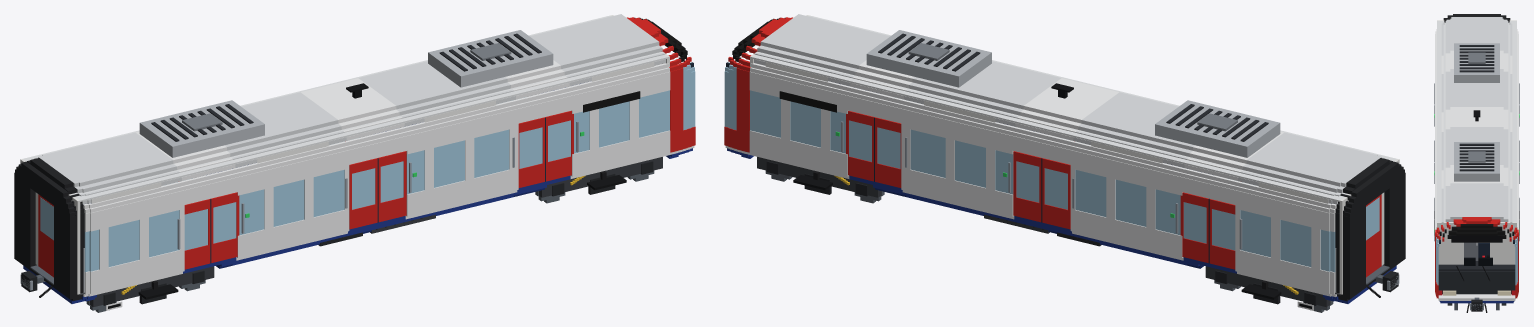
Rendered from sstock_front.obj.
The picture shows the model from 3 angles, left to right: view 1: azimuth 30°, elevation 25°; view 2: azimuth 150°, elevation 25°; view 3: azimuth 270°, elevation 25°; orthographic projection. The views are drawn at different scales.
Visible parts, largest first — view 1: SHELL, SHELL_roof, SHELL_ceiling, SHELL_diaphragm, EXTERNAL_DOOR_9_CG_DR2_TOGGLE_TL_-0.74_X, EXTERNAL_DOOR_10_CG_DR2_TOGGLE_TL_0.74_X, EXTERNAL_DOOR_4_CG_DR1_TOGGLE_TL_0.74_X, BOGEY_REAR, BOGEY_FRONT, EXTERNAL_DOOR_15_CG_DR3_TOGGLE_TL_-0.74_X, EXTERNAL_DOOR_3_CG_DR1_TOGGLE_TL_-0.74_X, EXTERNAL_DOOR_16_CG_DR3_TOGGLE_TL_0.74_X (+6 smaller); view 2: SHELL, SHELL_roof, SHELL_ceiling, SHELL_diaphragm, EXTERNAL_DOOR_12_CG_DL2_TOGGLE_TL_-0.74_X, EXTERNAL_DOOR_13_CG_DL2_TOGGLE_TL_0.74_X, EXTERNAL_DOOR_7_CG_DL1_TOGGLE_TL_0.74_X, BOGEY_REAR, BOGEY_FRONT, EXTERNAL_DOOR_6_CG_DL1_TOGGLE_TL_-0.74_X, EXTERNAL_DOOR_18_CG_DL3_TOGGLE_TL_-0.74_X, EXTERNAL_DOOR_19_CG_DL3_TOGGLE_TL_0.74_X (+6 smaller); view 3: SHELL, SHELL_roof, SHELL_ceiling, SHELL_desk, SHELL_cabwall, SHELL_destbox, SHELL_floor, SHELL_handle, FRAME, SHELL_cabseat, HEADLIGHT_1.
Boxes of the visible parts, box(x1,y1,x2,y2) form: SHELL: box(23, 14, 695, 303); SHELL_roof: box(139, 30, 553, 157); SHELL_ceiling: box(23, 15, 666, 201); SHELL_diaphragm: box(14, 161, 75, 299); EXTERNAL_DOOR_9_CG_DR2_TOGGLE_TL_-0.74_X: box(349, 158, 378, 229); EXTERNAL_DOOR_10_CG_DR2_TOGGLE_TL_0.74_X: box(378, 151, 406, 222); EXTERNAL_DOOR_4_CG_DR1_TOGGLE_TL_0.74_X: box(211, 192, 239, 262); BOGEY_REAR: box(90, 266, 214, 307); BOGEY_FRONT: box(538, 157, 662, 197); EXTERNAL_DOOR_15_CG_DR3_TOGGLE_TL_-0.74_X: box(518, 117, 545, 187); EXTERNAL_DOOR_3_CG_DR1_TOGGLE_TL_-0.74_X: box(184, 199, 211, 269); EXTERNAL_DOOR_16_CG_DR3_TOGGLE_TL_0.74_X: box(545, 111, 573, 181); SHELL: box(724, 14, 1396, 303); SHELL_roof: box(866, 30, 1280, 157); SHELL_ceiling: box(753, 15, 1396, 201); SHELL_diaphragm: box(1344, 161, 1405, 299); EXTERNAL_DOOR_12_CG_DL2_TOGGLE_TL_-0.74_X: box(1041, 158, 1070, 229); EXTERNAL_DOOR_13_CG_DL2_TOGGLE_TL_0.74_X: box(1013, 151, 1041, 222); EXTERNAL_DOOR_7_CG_DL1_TOGGLE_TL_0.74_X: box(1180, 192, 1208, 262); BOGEY_REAR: box(1205, 266, 1329, 307); BOGEY_FRONT: box(757, 157, 881, 197); EXTERNAL_DOOR_6_CG_DL1_TOGGLE_TL_-0.74_X: box(1208, 198, 1235, 269); EXTERNAL_DOOR_18_CG_DL3_TOGGLE_TL_-0.74_X: box(874, 117, 901, 187); EXTERNAL_DOOR_19_CG_DL3_TOGGLE_TL_0.74_X: box(846, 111, 874, 181); SHELL: box(1435, 14, 1518, 303); SHELL_roof: box(1454, 43, 1499, 181); SHELL_ceiling: box(1437, 21, 1516, 221); SHELL_desk: box(1438, 257, 1515, 293); SHELL_cabwall: box(1437, 222, 1516, 264); SHELL_destbox: box(1451, 235, 1502, 242); SHELL_floor: box(1464, 242, 1489, 260); SHELL_handle: box(1434, 83, 1519, 241); FRAME: box(1466, 297, 1487, 312); SHELL_cabseat: box(1478, 243, 1489, 257); HEADLIGHT_1: box(1443, 290, 1510, 295).
Size of the model in its own units: 18.64 by 4.04 by 2.96.
Materials: 1 (1 with a texture image).
